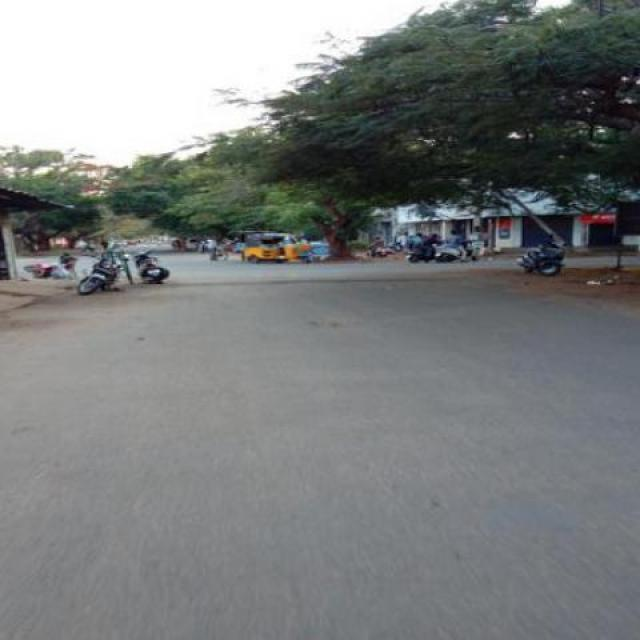Unmarked Bump: (172, 276, 466, 288)
